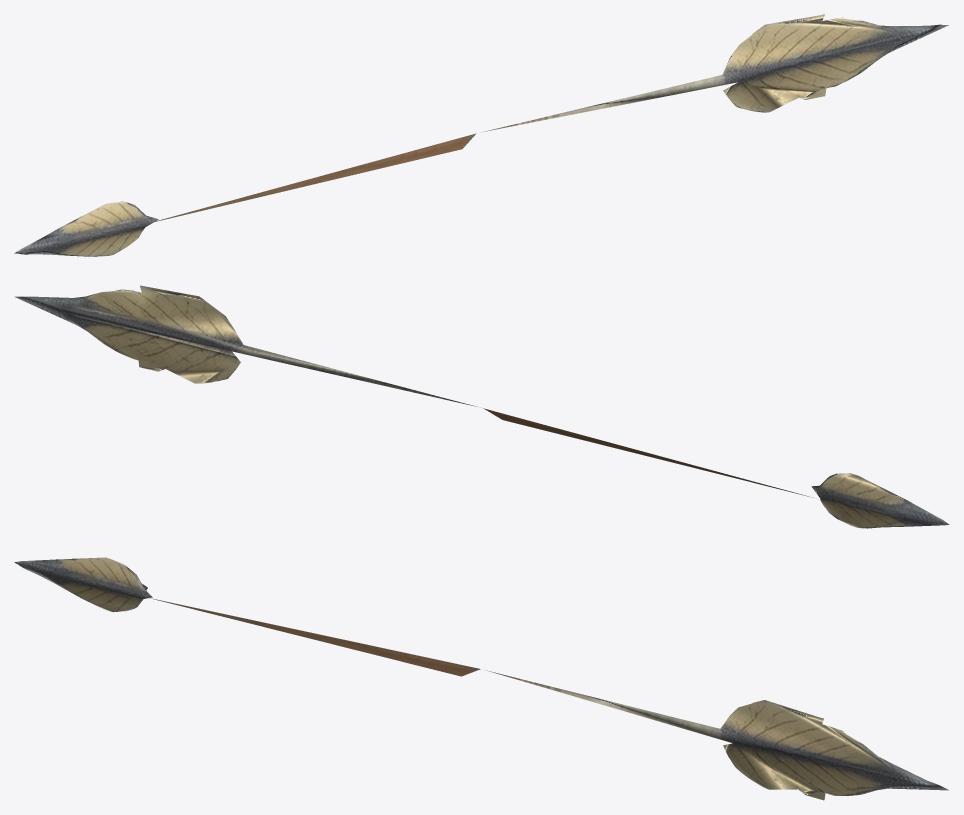
File: prop_mui-ten.glb
The picture shows the model from 3 angles, top to bottom: view 1: azimuth 30°, elevation 25°; view 2: azimuth 150°, elevation 25°; view 3: azimuth 330°, elevation 25°; orthographic projection.
Bounding box in the file's own units: 1.89 × 0.1707 × 0.0215.
Materials: 1 (1 with a texture image).
